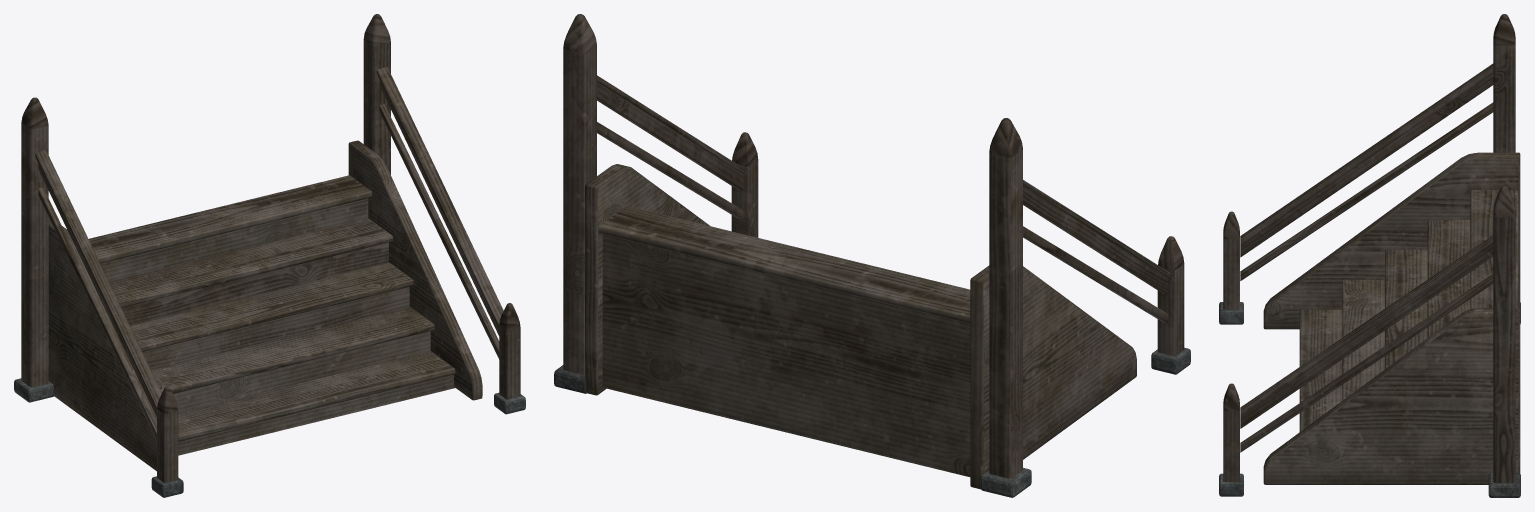
Rendered from ShrineModule_Stairs.fbx.
3 renders of one model, left to right at view 1: azimuth 30°, elevation 25°; view 2: azimuth 150°, elevation 25°; view 3: azimuth 270°, elevation 25°, orthographic. The views are drawn at different scales.
Parts seen in each view (by area): view 1: ShrineModule_Stairs; view 2: ShrineModule_Stairs; view 3: ShrineModule_Stairs.
Part boxes in pixels (x1,y1,x2,y2): ShrineModule_Stairs: (14, 14, 525, 497); ShrineModule_Stairs: (554, 14, 1190, 497); ShrineModule_Stairs: (1219, 14, 1520, 497).
Bounding box in the file's own units: 3.66 × 2.81 × 2.51.
